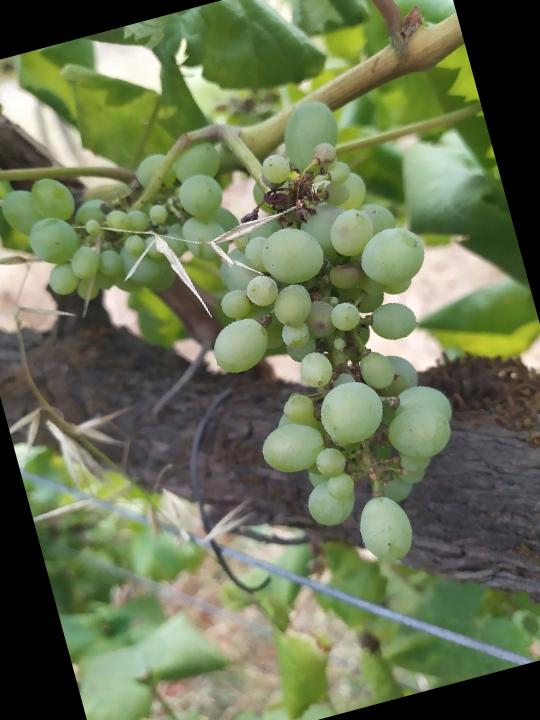grape: (152, 77, 506, 599)
